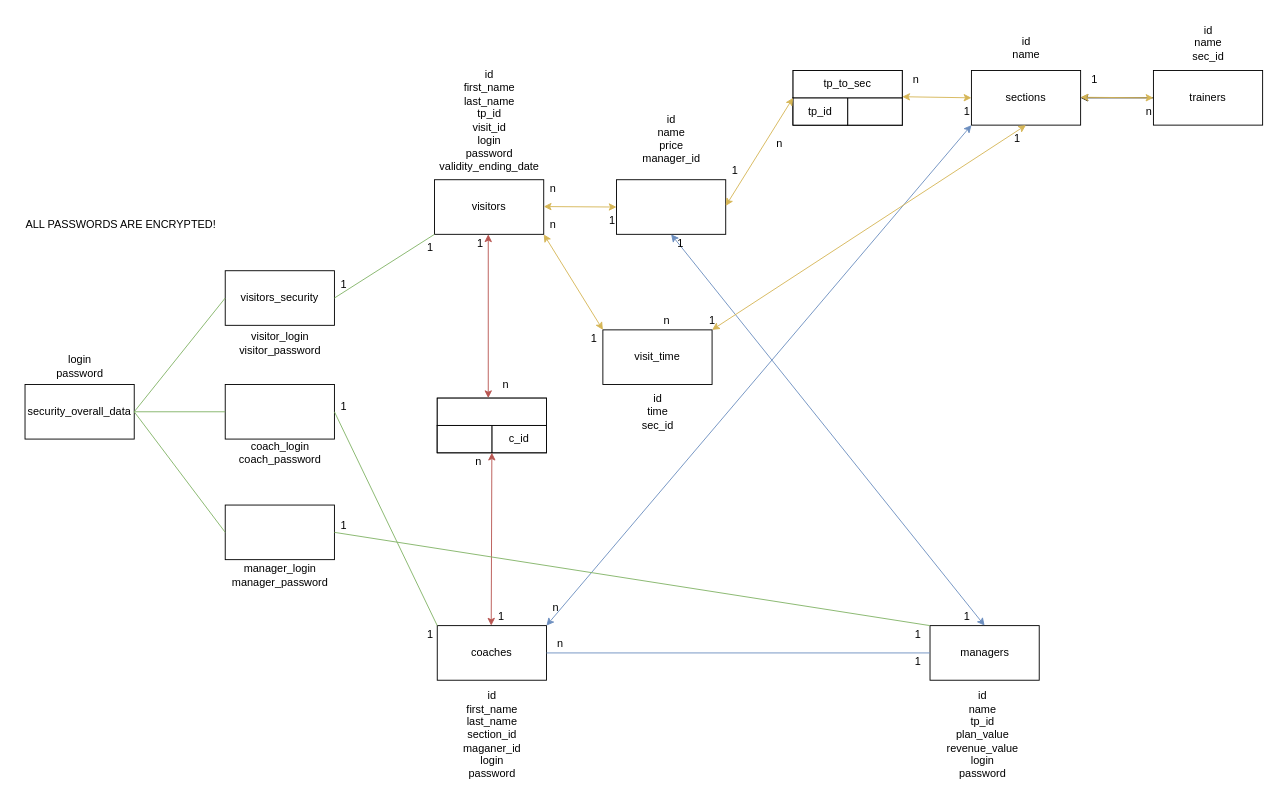
Image size: 1279x800. Some labels were removed from this diagram. Each missing label, with the box of its shape:
coaches_security: (224, 384, 334, 439)
managers_security: (224, 504, 334, 560)
sec_id: (847, 97, 902, 125)
tariff_plans: (616, 179, 726, 234)
u_id: (436, 425, 492, 453)
visitors_to_coaches: (436, 397, 546, 425)
